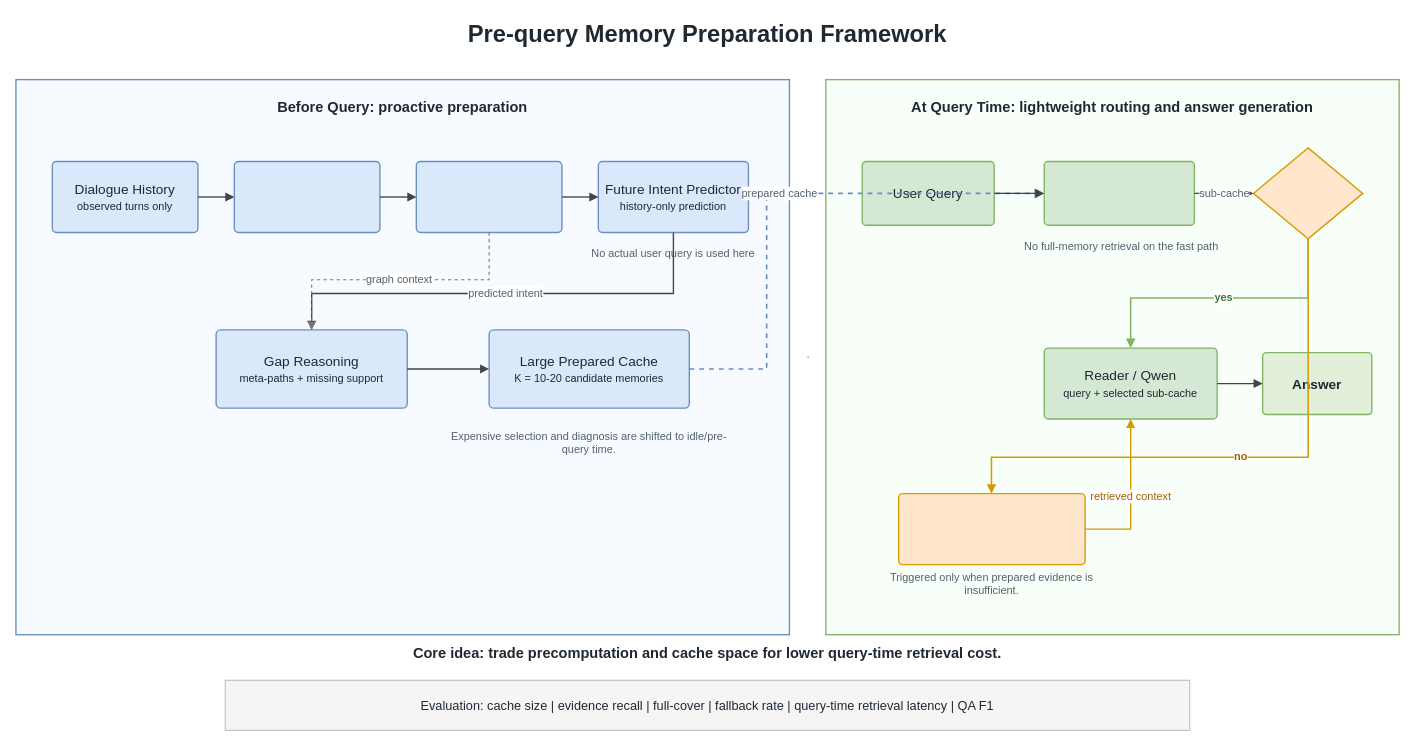
This 1416x746 diagram has some shape labels left out. The shapes that lost their labels are listed below. From the top down, each one's centre as x and y in pixels, then its label:
At point (306, 196): "Memory Writer build memory nodes".
At point (488, 196): "Memory Graph entities, time, relations".
At point (1119, 192): "Cache Router select sub-cache only".
At point (1307, 193): "Enough evidence?".
At point (991, 529): "Conditional Fallback full retrieval / normal RAG".
